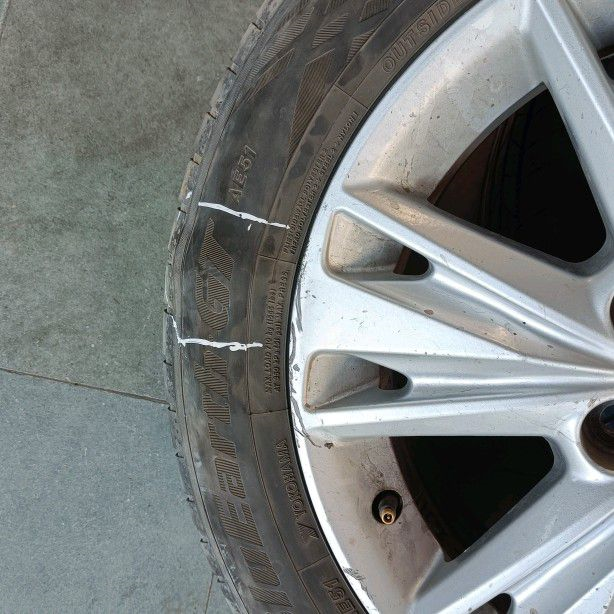CBU: (162, 213, 273, 347)
